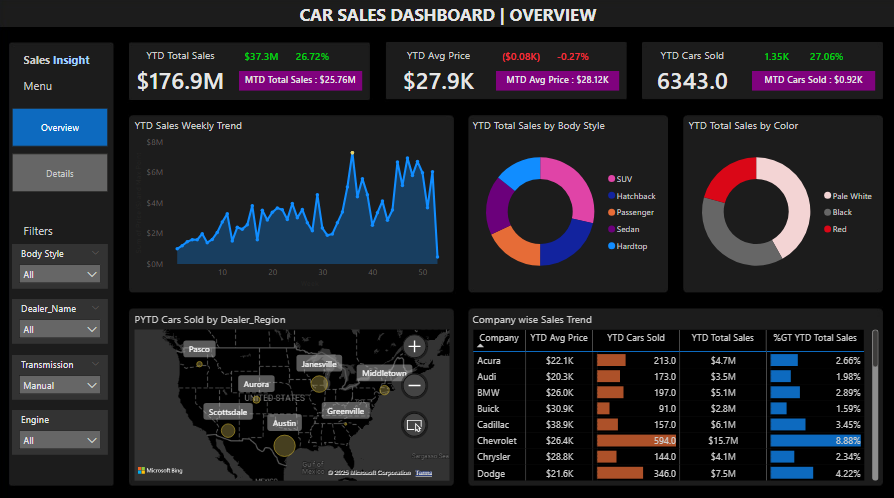

The page's visual inventory and layout, read from the dashboard file:
{"tool":"powerbi","page":{"name":"Overview","canvas":[1280,720],"ordinal":0},"visuals":[{"type":"card","title":"YTD Total Sales","fields":{"Values":["car_data.YTD Total  Sales"]},"box":[190,70,141.1,71.1],"z":0},{"type":"card","fields":{"Values":["car_data.Sales Difference"]},"box":[344.4,70,64.4,26.7],"z":1000},{"type":"card","fields":{"Values":["car_data.YoY Sales Growth"]},"box":[416.7,70,64.4,26.7],"z":2000},{"type":"card","fields":{"Values":["car_data.MTD KPI"]},"box":[344.4,103.3,175.6,27.8],"z":3000},{"type":"card","fields":{"Values":["car_data.Avg Price Difference"]},"box":[711.1,70,71.1,26.7],"z":4000},{"type":"card","fields":{"Values":["car_data.YoY Price Growth"]},"box":[785.6,70,71.1,26.7],"z":5000},{"type":"card","fields":{"Values":["car_data.MTD Avg Price KPI"]},"box":[711.1,103.3,175.6,27.8],"z":6000},{"type":"card","title":"YTD Avg Price","fields":{"Values":["car_data.YTD Avg Price"]},"box":[558.9,70,141.1,71.1],"z":7000},{"type":"card","title":"YTD Cars Sold","fields":{"Values":["car_data.YTD Car Sold"]},"box":[921.1,70,141.1,71.1],"z":8000},{"type":"card","fields":{"Values":["car_data.Cars Sold Diff"]},"box":[1077.8,70,71.1,26.7],"z":9000},{"type":"card","fields":{"Values":["car_data.MTD Cars Sold KPI"]},"box":[1077.8,103.3,175.6,27.8],"z":10000},{"type":"card","fields":{"Values":["car_data.YoY Sold Growth"]},"box":[1148.9,70,71.1,26.7],"z":11000},{"type":"areaChart","title":"YTD Sales Weekly Trend","fields":{"Category":["Calender table.Week"],"Y":["Sum(car_data.Price ($))","car_data.Max Point"]},"box":[190,170,460,247.5],"z":12000},{"type":"donutChart","fields":{"Category":["car_data.Body Style"],"Y":["car_data.YTD Total  Sales"]},"box":[672.9,170,281.4,247.1],"z":13000},{"type":"donutChart","fields":{"Y":["car_data.YTD Total  Sales"],"Category":["car_data.Color"]},"box":[981.4,170,281.4,247.1],"z":14000},{"type":"map","fields":{"Category":["car_data.Dealer_Region"],"Size":["car_data.PYTD Cars Sold"]},"box":[190,447.1,460,245.7],"z":15000},{"type":"tableEx","title":"Company wise Sales Trend","fields":{"Values":["car_data.Company","car_data.YTD Avg Price","car_data.YTD Cars Sold","car_data.YTD Total  Sales1","car_data.YTD Total  Sales"]},"box":[672.9,447.1,590,245.7],"z":16000},{"type":"textbox","box":[425.7,0,448.6,47.1],"z":17000},{"type":"slicer","fields":{"Values":["car_data.Body Style"]},"box":[20,350,137.1,64.3],"z":18000},{"type":"slicer","fields":{"Values":["car_data.Dealer_Name"]},"box":[20,429,137.1,64.3],"z":19000},{"type":"slicer","fields":{"Values":["car_data.Transmission"]},"box":[20,508.1,137.1,64.3],"z":20000},{"type":"slicer","fields":{"Values":["car_data.Engine"]},"box":[20,587.1,137.1,64.3],"z":21000},{"type":"textbox","box":[31.4,315.7,125.7,34.3],"z":22000},{"type":"textbox","box":[31.4,71.4,125.7,34.3],"z":23000},{"type":"textbox","box":[31.4,108.6,125.7,34.3],"z":24000},{"type":"pageNavigator","box":[20,155.7,137.1,121.4],"z":25000}]}

Visuals, with their boxes in screenshot pixels (x1, y1, x2, y2), scaled from the page's 1280x720 canvas onto the 894x498 screenshot:
"YTD Total Sales" card: {"left": 133, "top": 48, "right": 231, "bottom": 98}
card - car_data.Sales Difference: {"left": 241, "top": 48, "right": 286, "bottom": 67}
card - car_data.YoY Sales Growth: {"left": 291, "top": 48, "right": 336, "bottom": 67}
card - car_data.MTD KPI: {"left": 241, "top": 71, "right": 363, "bottom": 91}
card - car_data.Avg Price Difference: {"left": 497, "top": 48, "right": 546, "bottom": 67}
card - car_data.YoY Price Growth: {"left": 549, "top": 48, "right": 598, "bottom": 67}
card - car_data.MTD Avg Price KPI: {"left": 497, "top": 71, "right": 619, "bottom": 91}
"YTD Avg Price" card: {"left": 390, "top": 48, "right": 489, "bottom": 98}
"YTD Cars Sold" card: {"left": 643, "top": 48, "right": 742, "bottom": 98}
card - car_data.Cars Sold Diff: {"left": 753, "top": 48, "right": 802, "bottom": 67}
card - car_data.MTD Cars Sold KPI: {"left": 753, "top": 71, "right": 875, "bottom": 91}
card - car_data.YoY Sold Growth: {"left": 802, "top": 48, "right": 852, "bottom": 67}
"YTD Sales Weekly Trend" areaChart: {"left": 133, "top": 118, "right": 454, "bottom": 289}
donutChart - car_data.Body Style x car_data.YTD Total  Sales: {"left": 470, "top": 118, "right": 667, "bottom": 288}
donutChart - car_data.YTD Total  Sales x car_data.Color: {"left": 685, "top": 118, "right": 882, "bottom": 288}
map - car_data.Dealer_Region x car_data.PYTD Cars Sold: {"left": 133, "top": 309, "right": 454, "bottom": 479}
"Company wise Sales Trend" tableEx: {"left": 470, "top": 309, "right": 882, "bottom": 479}
textbox: {"left": 297, "top": 0, "right": 611, "bottom": 33}
slicer - car_data.Body Style: {"left": 14, "top": 242, "right": 110, "bottom": 287}
slicer - car_data.Dealer_Name: {"left": 14, "top": 297, "right": 110, "bottom": 341}
slicer - car_data.Transmission: {"left": 14, "top": 351, "right": 110, "bottom": 396}
slicer - car_data.Engine: {"left": 14, "top": 406, "right": 110, "bottom": 451}
textbox: {"left": 22, "top": 218, "right": 110, "bottom": 242}
textbox: {"left": 22, "top": 49, "right": 110, "bottom": 73}
textbox: {"left": 22, "top": 75, "right": 110, "bottom": 99}
pageNavigator: {"left": 14, "top": 108, "right": 110, "bottom": 192}
